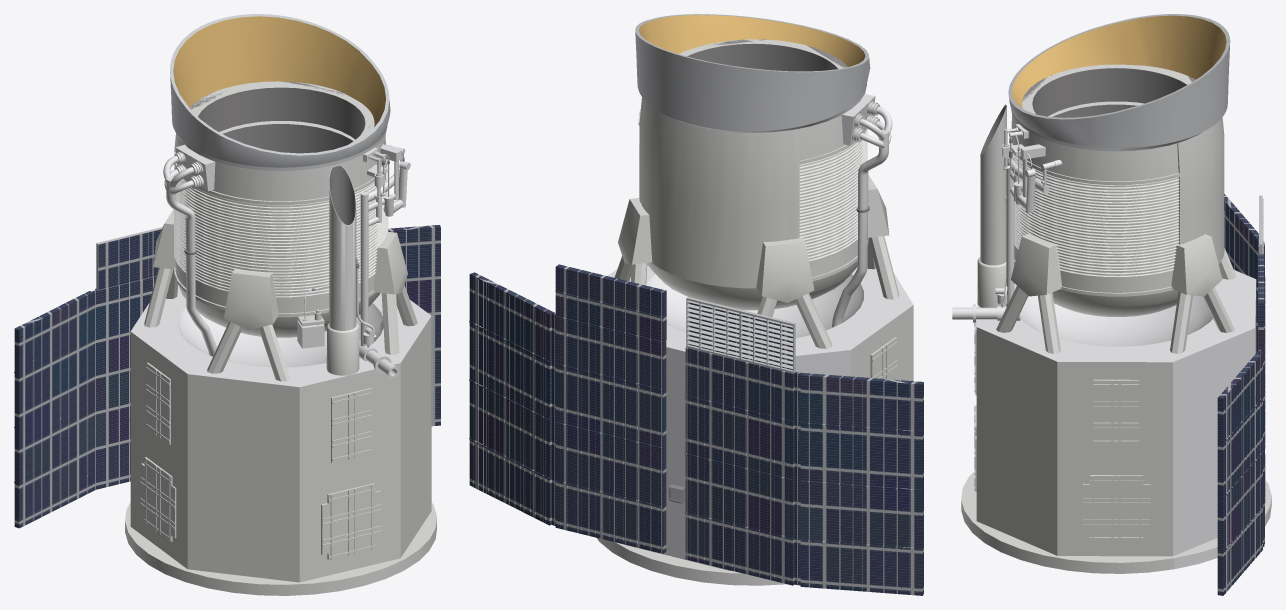
Rendered from wire.glb.
3 renders of one model, left to right at view 1: azimuth 30°, elevation 25°; view 2: azimuth 150°, elevation 25°; view 3: azimuth 270°, elevation 25°, orthographic. The views are drawn at different scales.
Visible parts, largest first — view 1: <LWODefault>; view 2: <LWODefault>; view 3: <LWODefault>.
Boxes of the visible parts, x1,y1,x2,y2 form: <LWODefault>: [14, 14, 440, 595]; <LWODefault>: [469, 14, 923, 595]; <LWODefault>: [952, 14, 1271, 595].
Bounding box in the file's own units: 1.95 × 2.06 × 1.27.
Materials: 6 (1 with a texture image).
